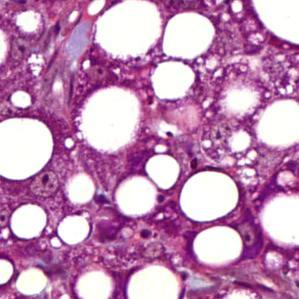steatosis: (80, 88, 144, 153), (179, 172, 233, 221), (165, 12, 219, 58), (116, 176, 158, 217), (149, 60, 194, 98), (10, 205, 48, 238), (143, 154, 183, 182), (57, 214, 93, 243)
